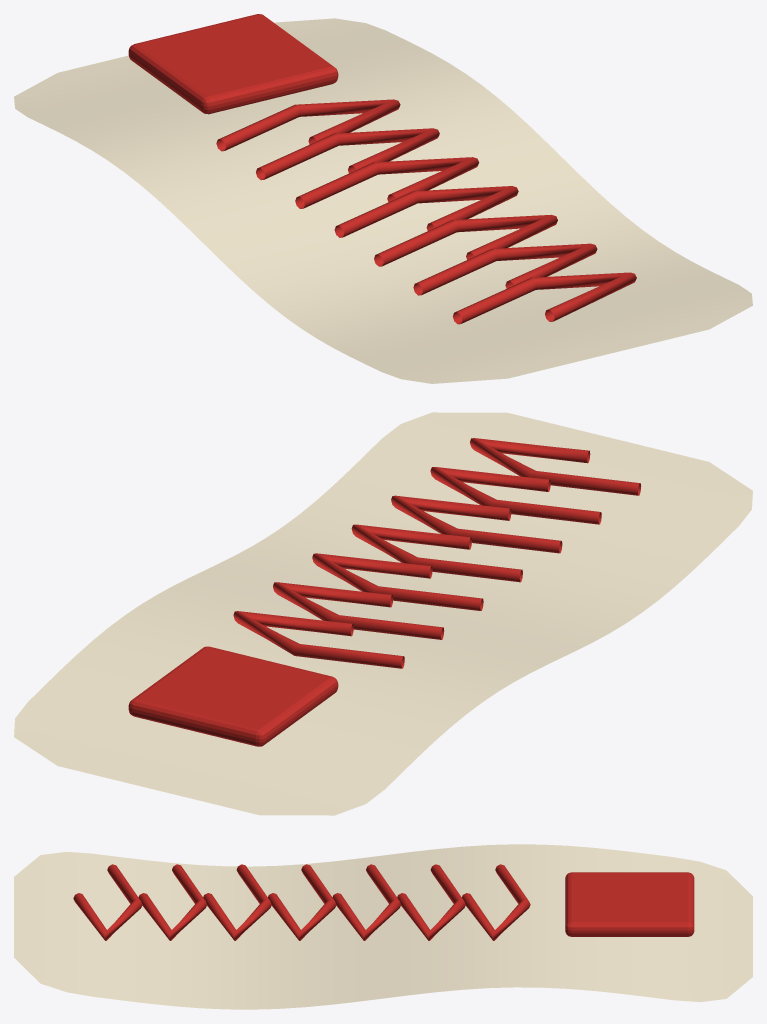
File: prop-talisman.glb
3 views of the same model, one above another, from view 1: azimuth 30°, elevation 25°; view 2: azimuth 150°, elevation 25°; view 3: azimuth 270°, elevation 25° (orthographic). The views are drawn at different scales.
Visible parts, largest first — view 1: prop-talisman; view 2: prop-talisman; view 3: prop-talisman.
Boxes of the visible parts, x1,y1,x2,y2 form: prop-talisman: (14,14,752,383); prop-talisman: (14,412,752,815); prop-talisman: (14,844,752,1009).
Bounding box in the file's own units: 0.55 × 0.0724 × 1.2.
